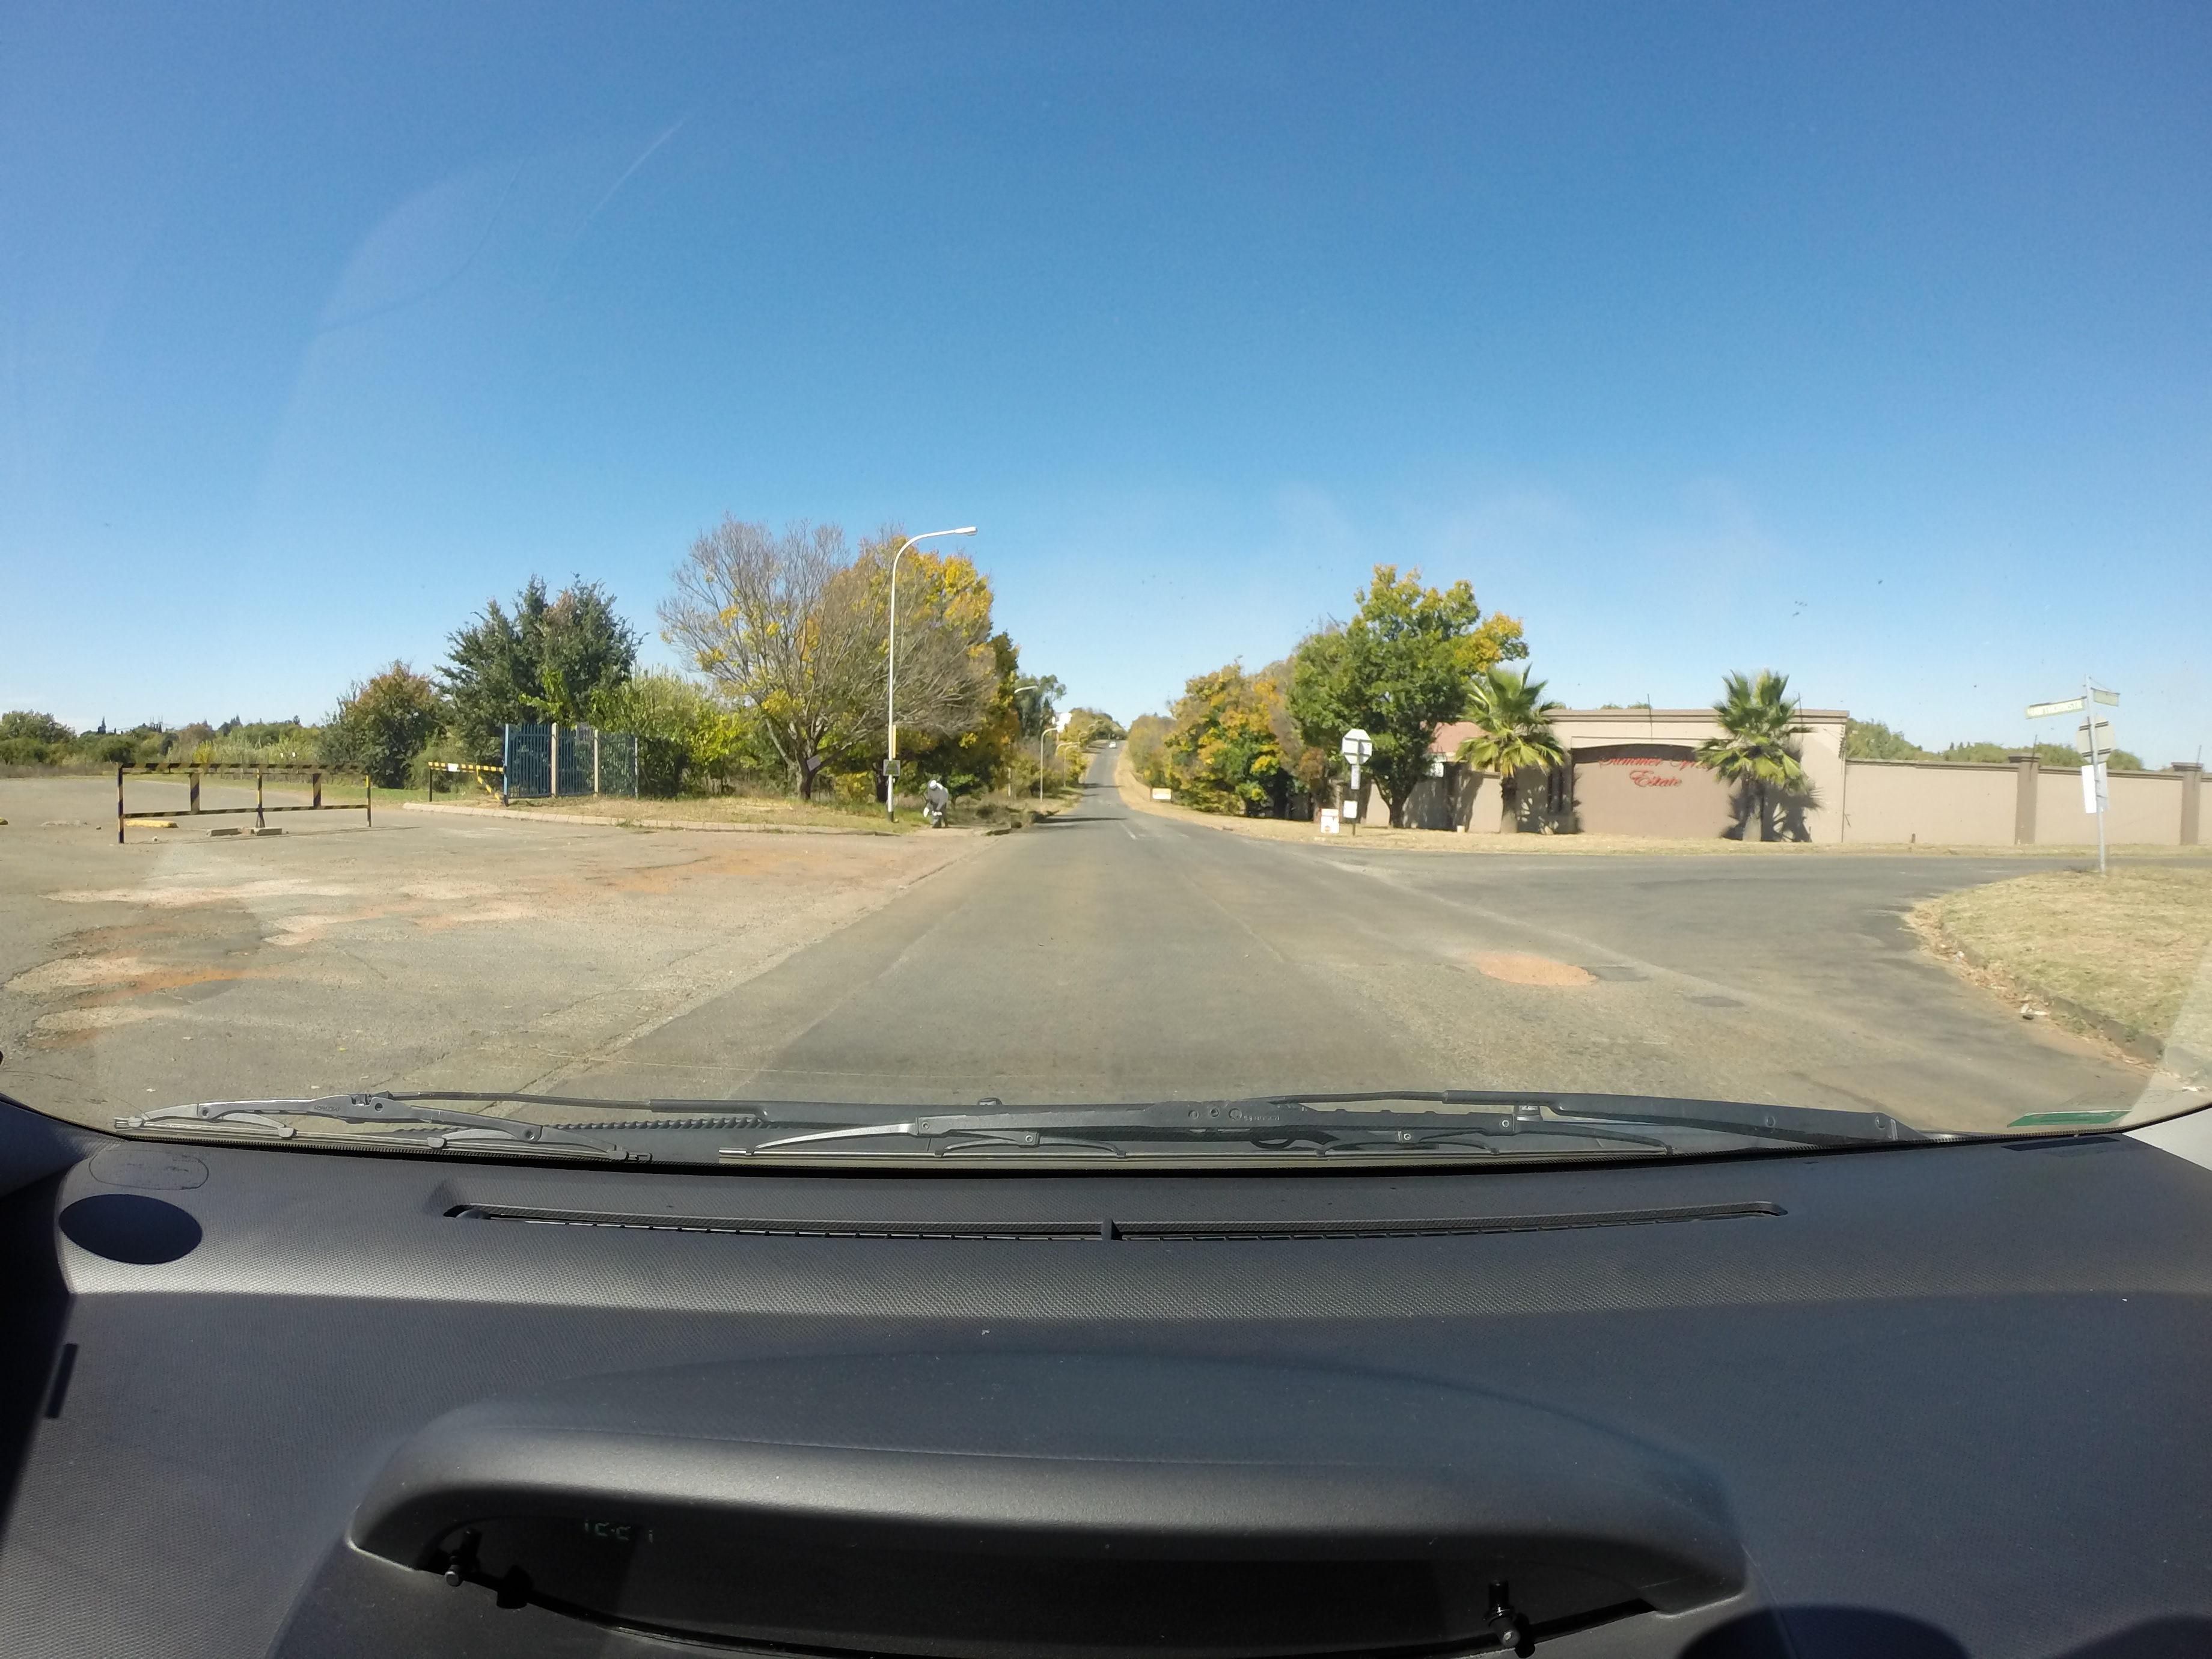pothole: (1475, 953, 1620, 990)
